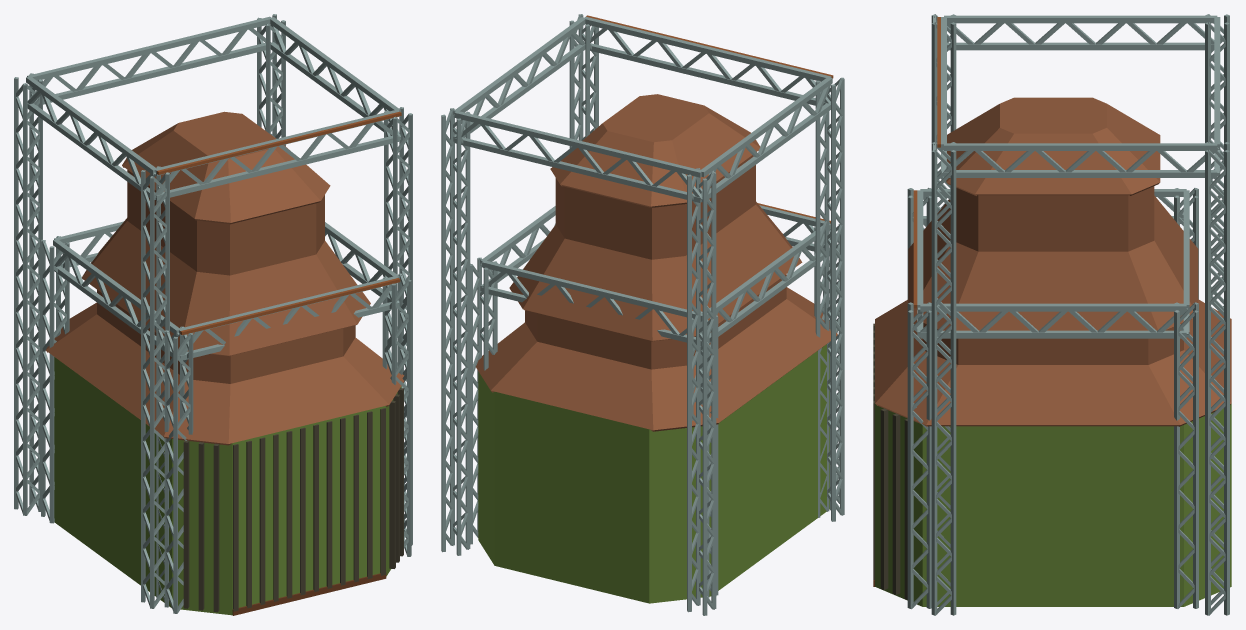
The model's file is market.glb.
The picture shows the model from 3 angles, left to right: view 1: azimuth 30°, elevation 25°; view 2: azimuth 150°, elevation 25°; view 3: azimuth 270°, elevation 25°; orthographic projection. The views are drawn at different scales.
Parts seen in each view (by area): view 1: body; view 2: body; view 3: body.
Boxes of the visible parts, x1=… form: body: x1=14, y1=14, x2=412, y2=615; body: x1=441, y1=14, x2=844, y2=615; body: x1=873, y1=14, x2=1231, y2=615.
Bounding box in the file's own units: 2.75 × 4.33 × 3.02.
